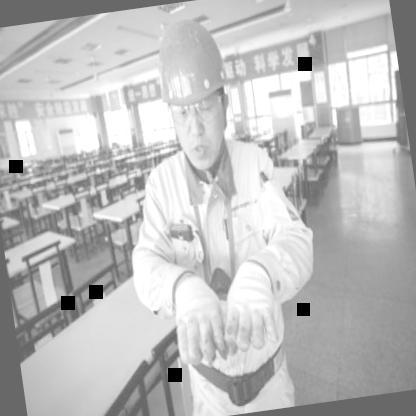helmet: (146, 1, 245, 179)
